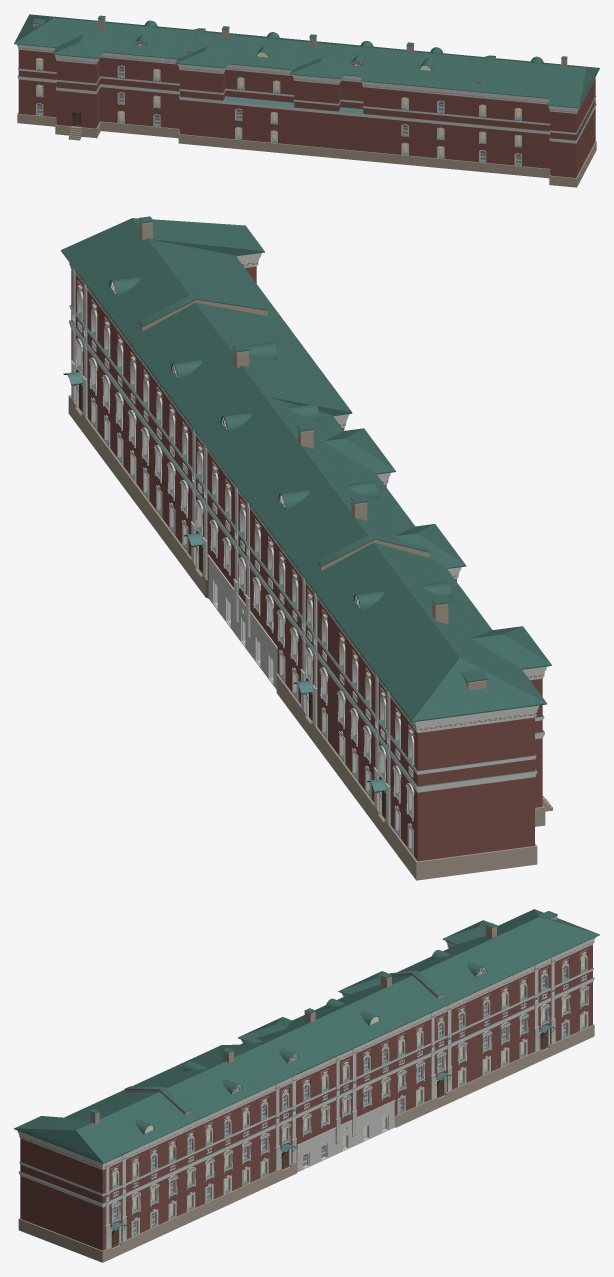
3 views of the same model, one above another, from view 1: azimuth 30°, elevation 25°; view 2: azimuth 150°, elevation 25°; view 3: azimuth 270°, elevation 25° (orthographic). The views are drawn at different scales.
Parts seen in each view (by area): view 1: 01080-50@114481; view 2: 01080-50@114481; view 3: 01080-50@114481.
Part boxes in pixels (x1,y1,x2,y2): 01080-50@114481: (14,14,599,187); 01080-50@114481: (61,216,552,880); 01080-50@114481: (14,909,599,1262).
Size of the model in its own units: 60.18 by 14.36 by 58.65.
Materials: 1 (1 with a texture image).
